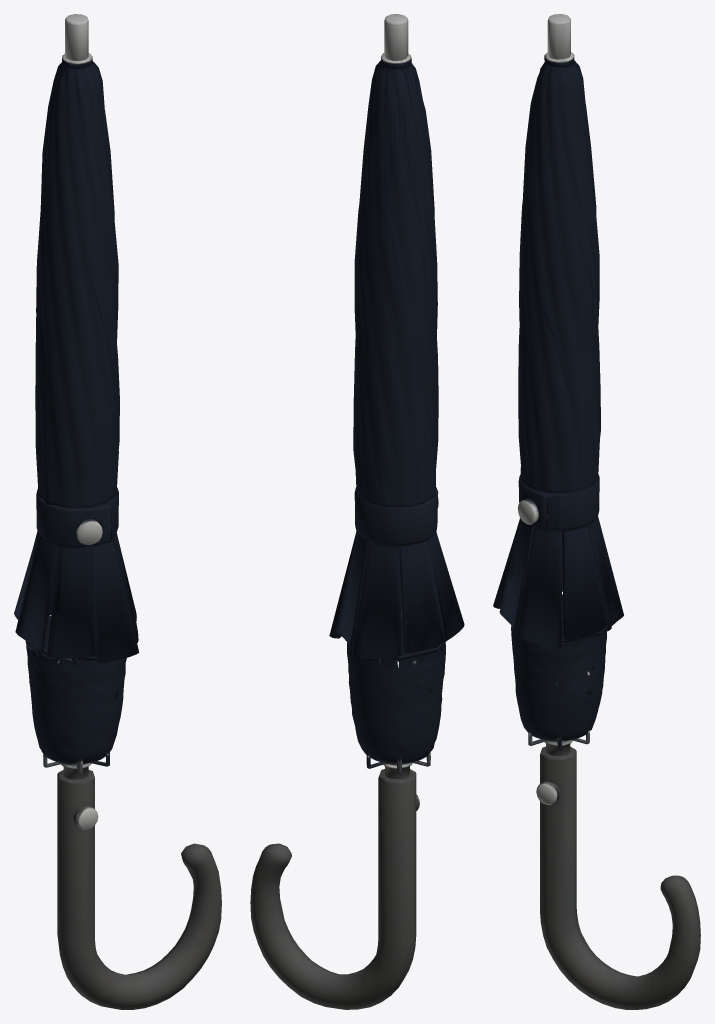
The model's file is selected.glb.
The picture shows the model from 3 angles, left to right: view 1: azimuth 30°, elevation 25°; view 2: azimuth 150°, elevation 25°; view 3: azimuth 330°, elevation 25°; orthographic projection. The views are drawn at different scales.
Parts seen in each view (by area): view 1: tripo_node_43a46a0c-6d92-49c9-b0c5-3e8f65f8659f; view 2: tripo_node_43a46a0c-6d92-49c9-b0c5-3e8f65f8659f; view 3: tripo_node_43a46a0c-6d92-49c9-b0c5-3e8f65f8659f.
Part boxes in pixels (box(x1,y1,x2,y2)): tripo_node_43a46a0c-6d92-49c9-b0c5-3e8f65f8659f: box(14, 14, 221, 1009); tripo_node_43a46a0c-6d92-49c9-b0c5-3e8f65f8659f: box(250, 14, 464, 1009); tripo_node_43a46a0c-6d92-49c9-b0c5-3e8f65f8659f: box(493, 14, 700, 1009).
Size of the model in its own units: 0.2085 by 0.9995 by 0.1216.
Materials: 1 (1 with a texture image).
